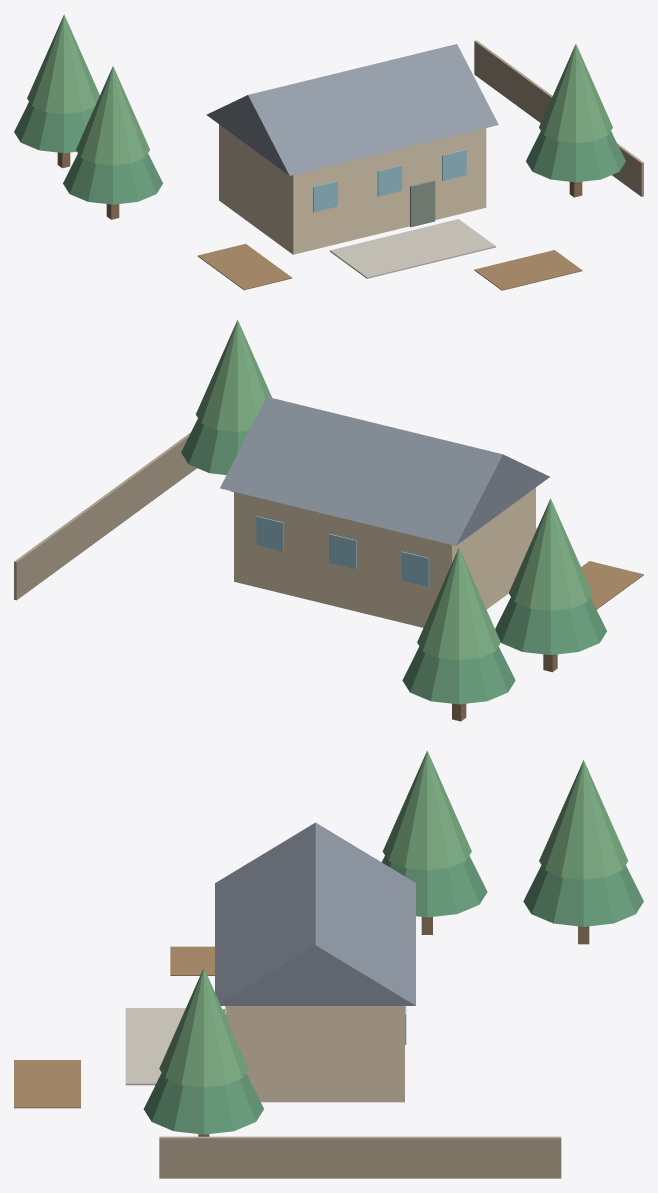
3 renders of one model, top to bottom at view 1: azimuth 30°, elevation 25°; view 2: azimuth 150°, elevation 25°; view 3: azimuth 270°, elevation 25°, orthographic. The views are drawn at different scales.
Visible parts, largest first — view 1: Invented gabled roof, Invented house, Invented tree crown (×3), Invented tree canopy (×3), Invented patio, Invented fence, Invented garden bed B, Invented garden bed A, Invented window (×3), Invented door; view 2: Invented gabled roof, Invented house, Invented tree crown (×3), Invented tree canopy (×3), Invented fence, Invented window (×3), Invented garden bed A; view 3: Invented gabled roof, Invented tree crown (×3), Invented fence, Invented house, Invented tree canopy (×3), Invented patio, Invented garden bed B, Invented garden bed A.
Part boxes in pixels (left/top/right/bottom): Invented gabled roof: left=206, top=44, right=498, bottom=175; Invented house: left=219, top=124, right=486, bottom=254; Invented tree crown (×3): left=27, top=14, right=612, bottom=165; Invented tree canopy (×3): left=14, top=102, right=625, bottom=204; Invented patio: left=330, top=219, right=495, bottom=278; Invented fence: left=474, top=40, right=643, bottom=196; Invented garden bed B: left=474, top=250, right=582, bottom=290; Invented garden bed A: left=197, top=243, right=292, bottom=290; Invented window (×3): left=313, top=149, right=466, bottom=212; Invented door: left=410, top=180, right=435, bottom=227; Invented gabled roof: left=220, top=397, right=549, bottom=545; Invented house: left=234, top=487, right=535, bottom=627; Invented tree crown (×3): left=196, top=319, right=592, bottom=660; Invented tree canopy (×3): left=181, top=418, right=606, bottom=704; Invented fence: left=14, top=432, right=196, bottom=600; Invented window (×3): left=256, top=516, right=429, bottom=586; Invented garden bed A: left=581, top=561, right=643, bottom=609; Invented gabled roof: left=215, top=822, right=415, bottom=1005; Invented tree crown (×3): left=159, top=750, right=627, bottom=1087; Invented fence: left=159, top=1136, right=561, bottom=1178; Invented house: left=226, top=1006, right=404, bottom=1102; Invented tree canopy (×3): left=143, top=856, right=643, bottom=1134; Invented patio: left=125, top=1008, right=185, bottom=1085; Invented garden bed B: left=14, top=1060, right=80, bottom=1108; Invented garden bed A: left=170, top=946, right=214, bottom=975.
Size of the model in its own units: 28.77 by 9.08 by 28.2.
